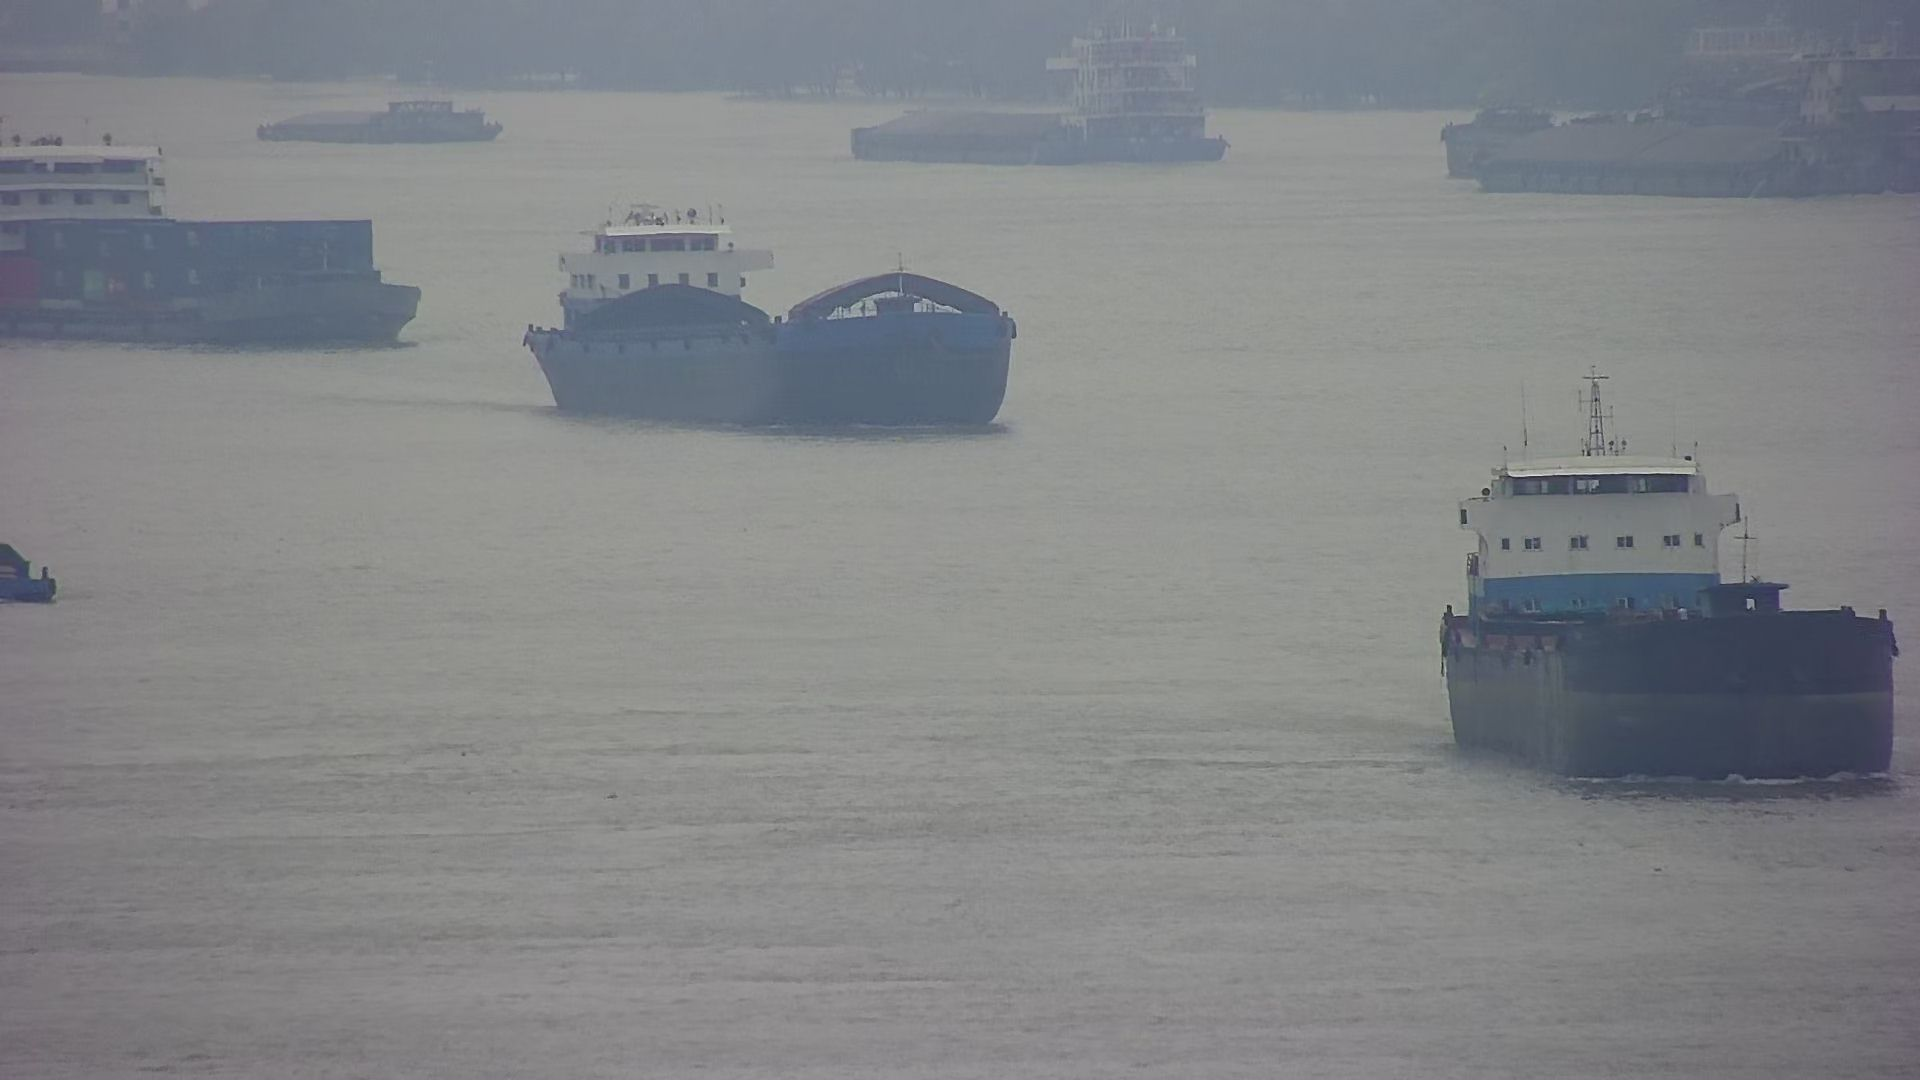ship: (1429, 385, 1898, 786), (531, 200, 1014, 436), (3, 135, 418, 356), (1435, 46, 1920, 194), (847, 36, 1232, 167), (258, 95, 510, 144), (3, 531, 58, 604)
